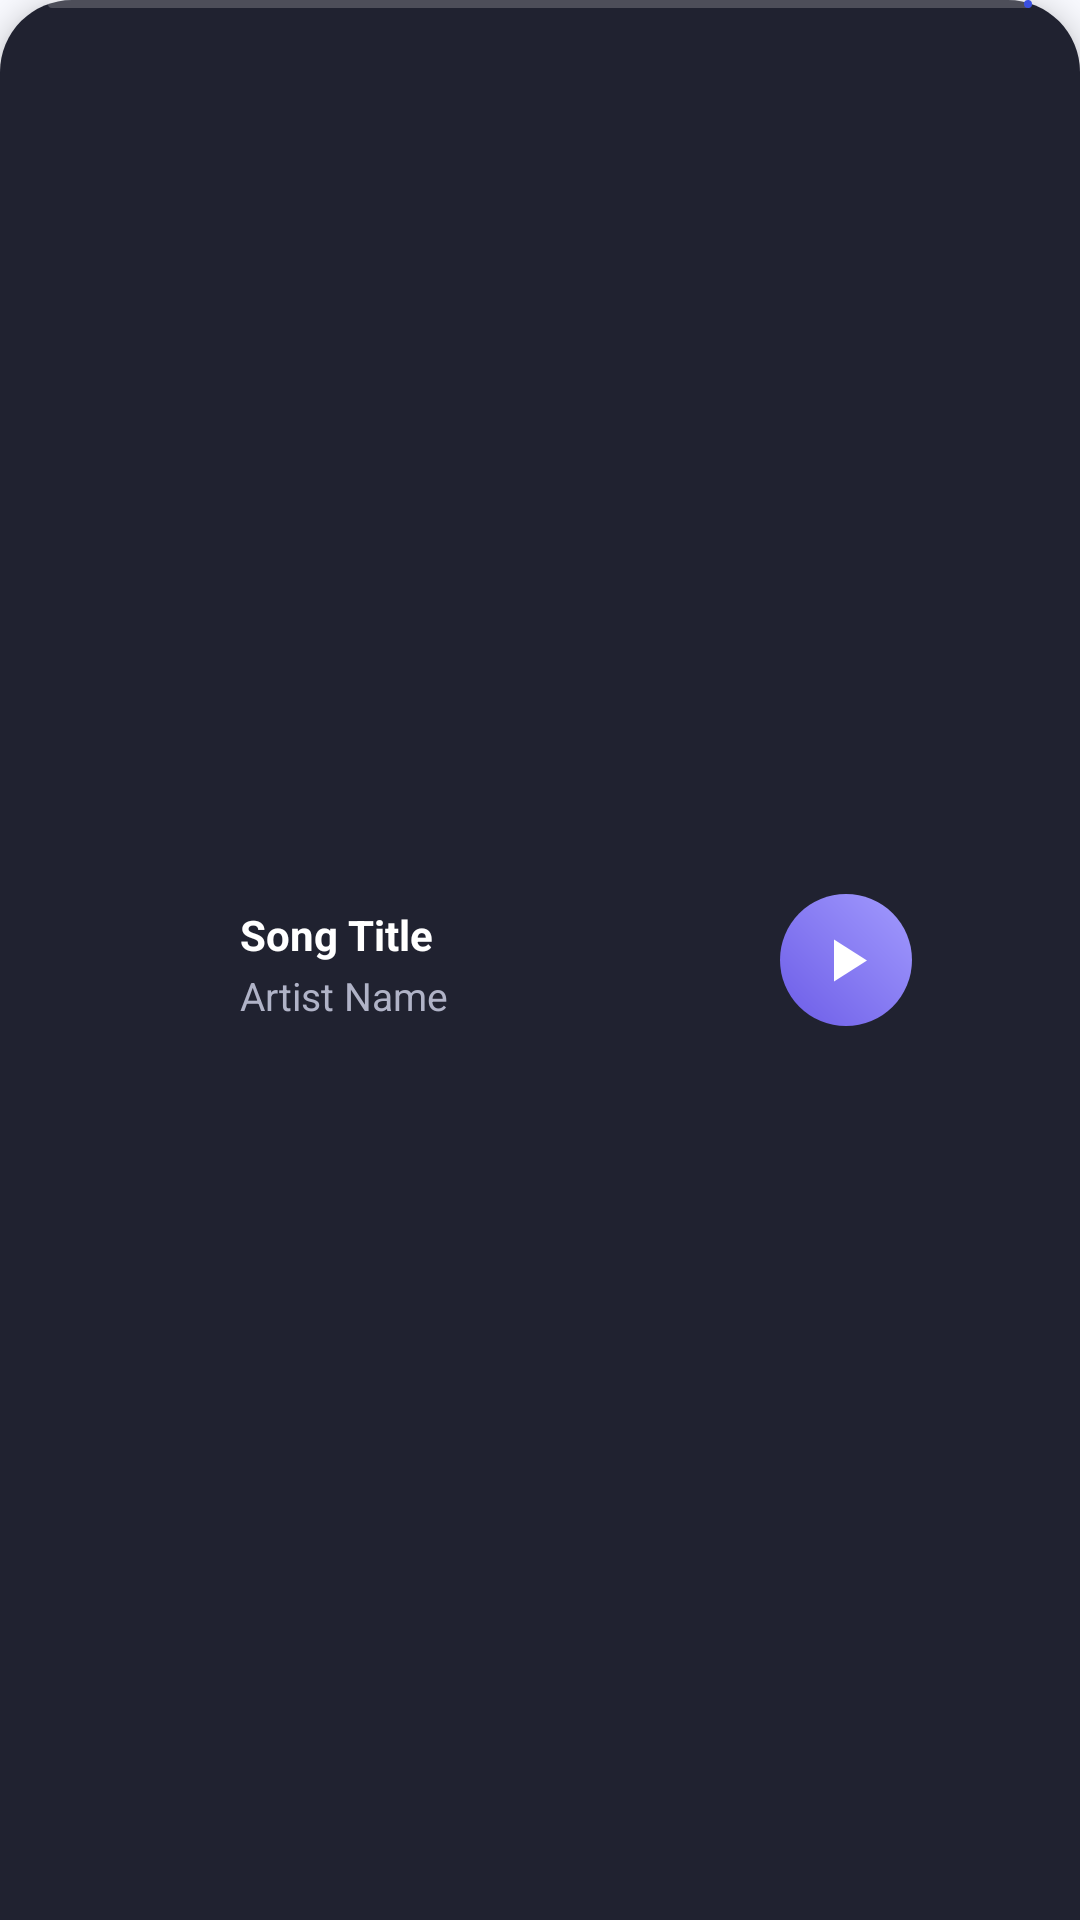

Point at icon controls on the screen. Image size 1080×1920, points as point (x, y).
Play: point (846, 960)
